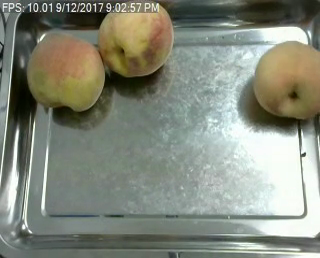Peach: (27, 28, 104, 111), (98, 0, 174, 77), (252, 41, 319, 120)
